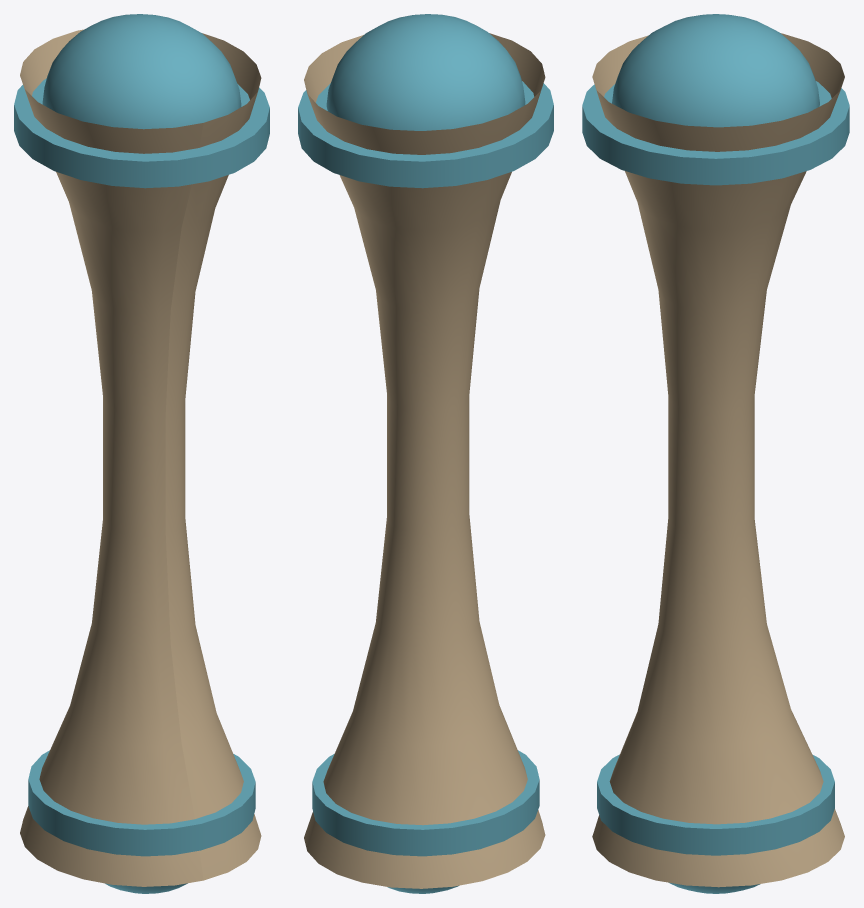
Rendered from left_metacarpal_1.glb.
The picture shows the model from 3 angles, left to right: view 1: azimuth 30°, elevation 25°; view 2: azimuth 150°, elevation 25°; view 3: azimuth 270°, elevation 25°; orthographic projection.
Parts seen in each view (by area): view 1: left_metacarpal_1:diaphysis, left_metacarpal_1:proximal-envelope, left_metacarpal_1:proximal-epiphyseal-plate, left_metacarpal_1:distal-epiphyseal-plate; view 2: left_metacarpal_1:diaphysis, left_metacarpal_1:proximal-envelope, left_metacarpal_1:proximal-epiphyseal-plate, left_metacarpal_1:distal-epiphyseal-plate; view 3: left_metacarpal_1:diaphysis, left_metacarpal_1:proximal-envelope, left_metacarpal_1:proximal-epiphyseal-plate, left_metacarpal_1:distal-epiphyseal-plate.
Boxes of the visible parts, box(x1,y1,x2,y2) form: left_metacarpal_1:diaphysis: box(20, 29, 261, 886); left_metacarpal_1:proximal-envelope: box(42, 14, 241, 129); left_metacarpal_1:proximal-epiphyseal-plate: box(14, 78, 269, 188); left_metacarpal_1:distal-epiphyseal-plate: box(28, 750, 255, 856); left_metacarpal_1:diaphysis: box(304, 33, 545, 888); left_metacarpal_1:proximal-envelope: box(326, 14, 525, 130); left_metacarpal_1:proximal-epiphyseal-plate: box(298, 81, 553, 188); left_metacarpal_1:distal-epiphyseal-plate: box(312, 750, 539, 856); left_metacarpal_1:diaphysis: box(592, 33, 844, 887); left_metacarpal_1:proximal-envelope: box(612, 14, 819, 127); left_metacarpal_1:proximal-epiphyseal-plate: box(582, 81, 849, 185); left_metacarpal_1:distal-epiphyseal-plate: box(597, 754, 834, 855).
Size of the model in its own units: 0.0416 by 0.1568 by 0.0441.
